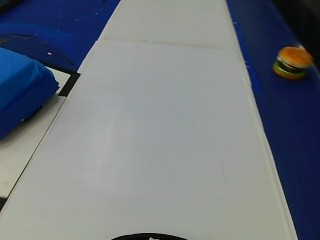burger: (273, 41, 312, 84)
